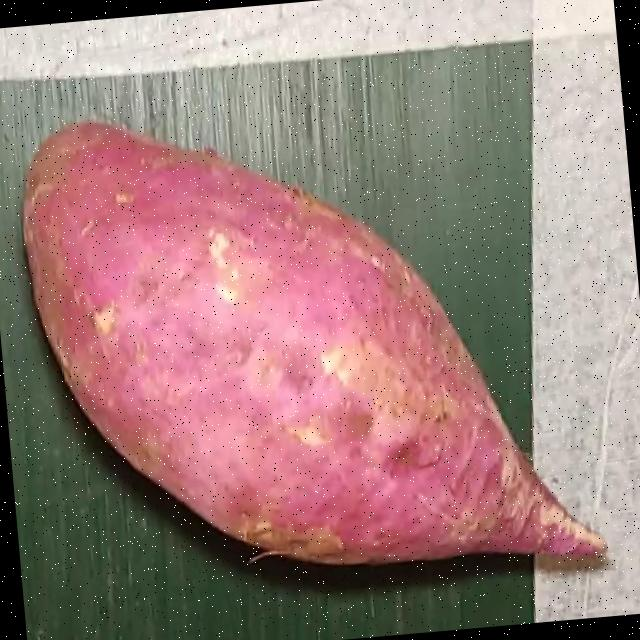Sweet Potato: (22, 118, 604, 560)
